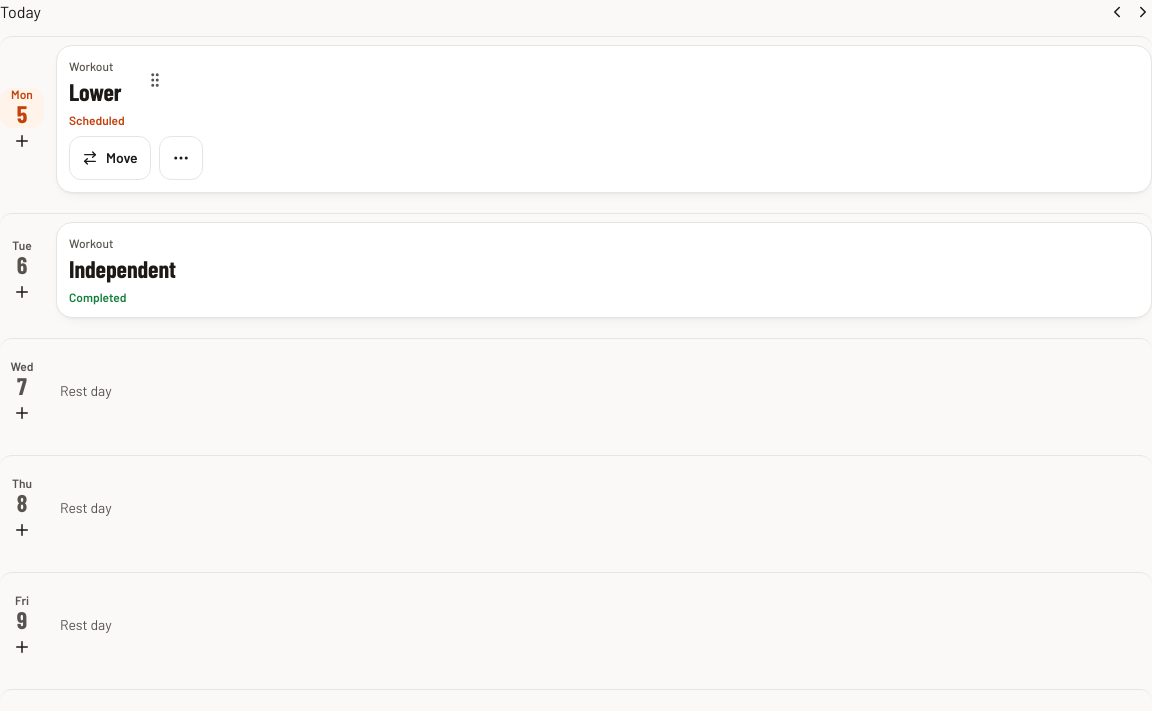
Test: Calendar occupied-date choices › discloses completed unplanned history before writing and offers no unavailable swap
The image size is (1152, 711).
Click the button "Move".
click(110, 158)  # box [69,136,151,180]
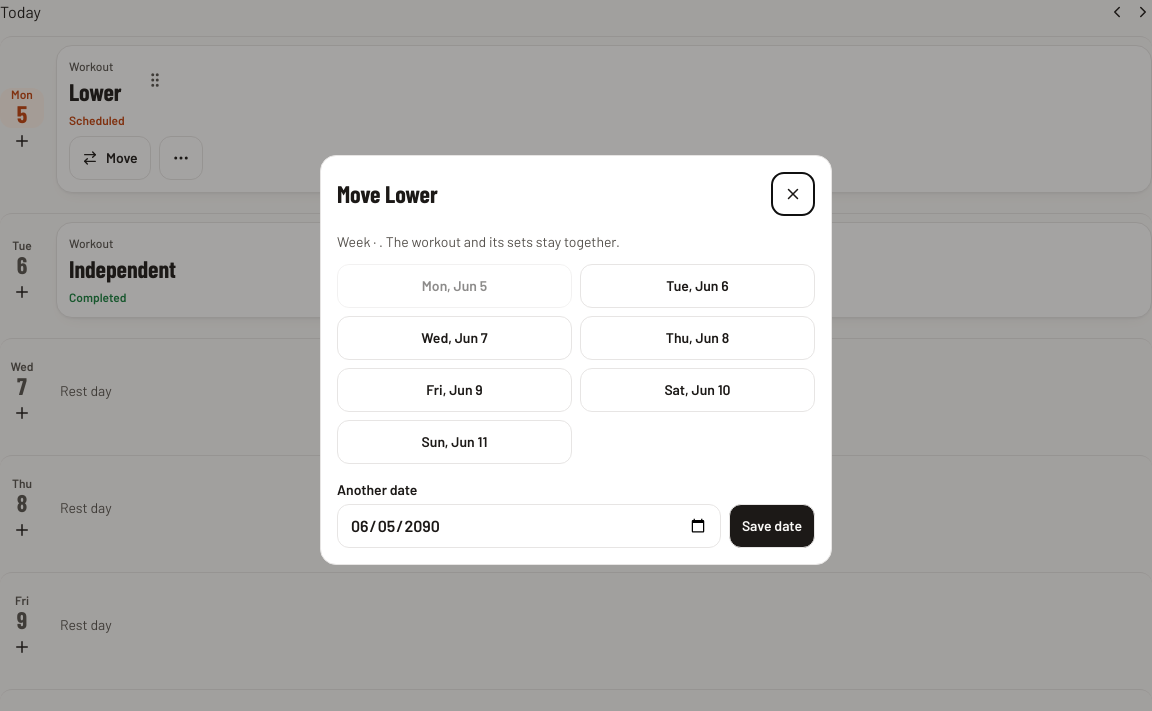
Click the button "Tue, Jun 6".
click(698, 286)  # box [580,264,815,308]
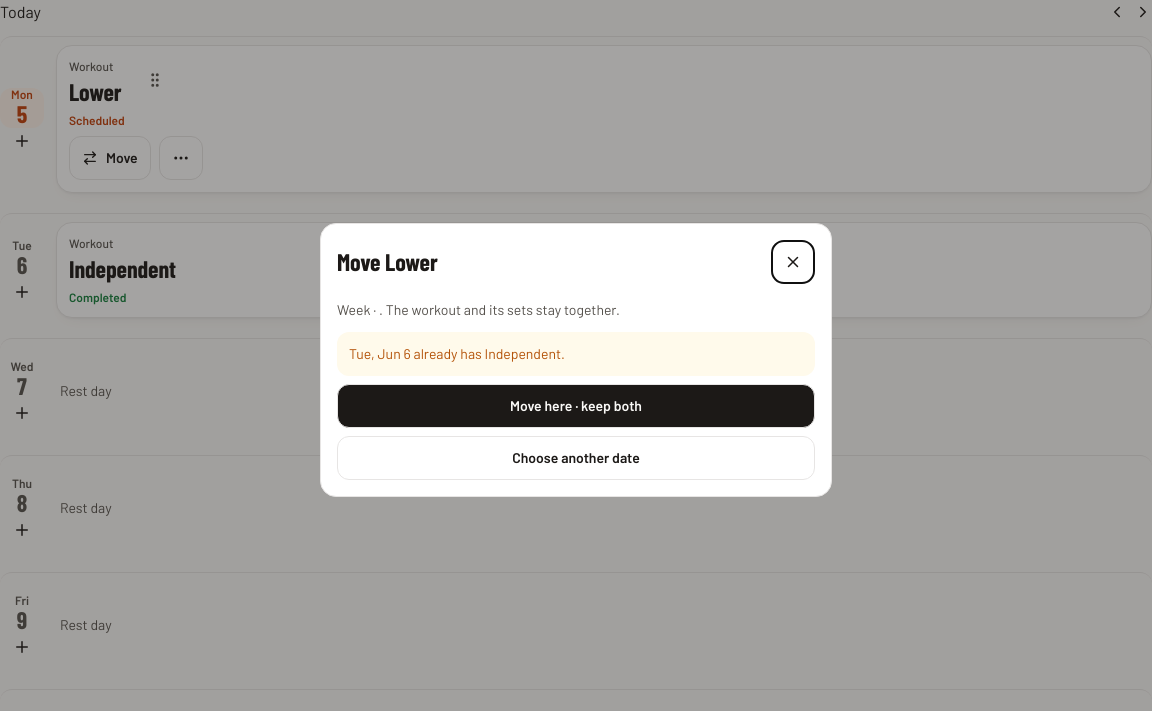
Expected: the text "Tue, Jun 6 already has Independent." is shown, [337,332,815,376]
Expected: the button "Move here · keep both" is shown, [337,384,815,428]
